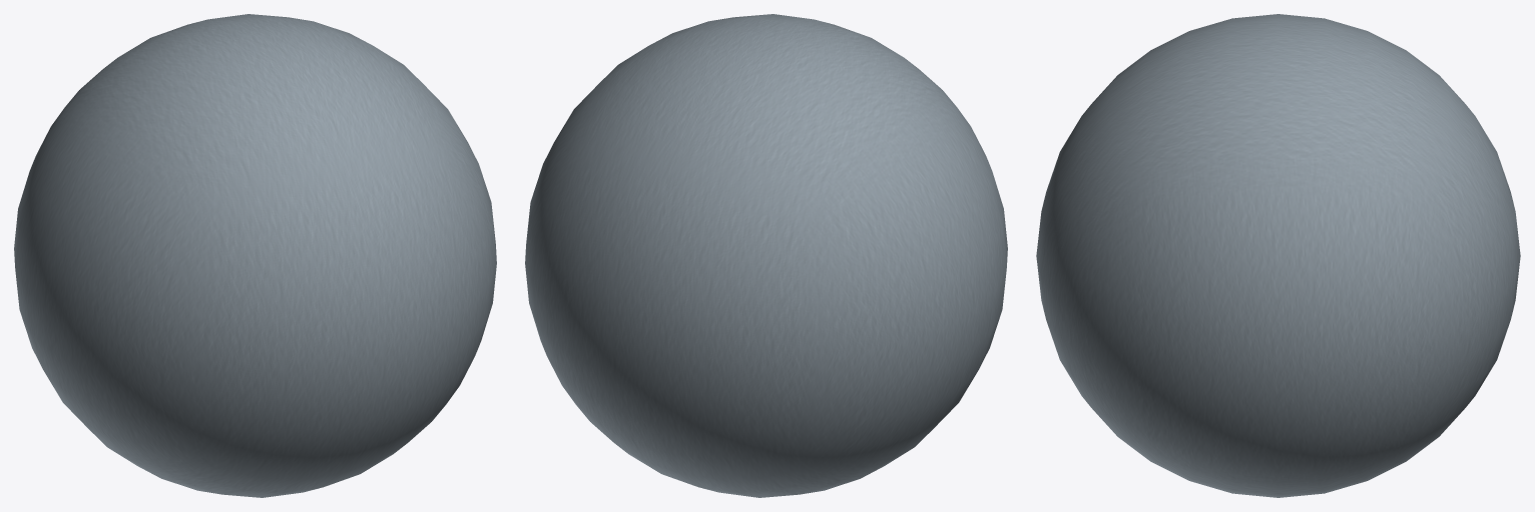
Rendered from FlurPlane.glb.
3 views of the same model, side by side, from view 1: azimuth 30°, elevation 25°; view 2: azimuth 150°, elevation 25°; view 3: azimuth 270°, elevation 25° (orthographic).
Visible parts, largest first — view 1: Cube.001; view 2: Cube.001; view 3: Cube.001.
Part boxes in pixels (left/top/right/bottom): Cube.001: left=14, top=14, right=496, bottom=497; Cube.001: left=525, top=14, right=1007, bottom=497; Cube.001: left=1036, top=14, right=1520, bottom=497.
Size of the model in its own units: 1.71 by 1.71 by 1.71.
Materials: 1 (1 with a texture image).
